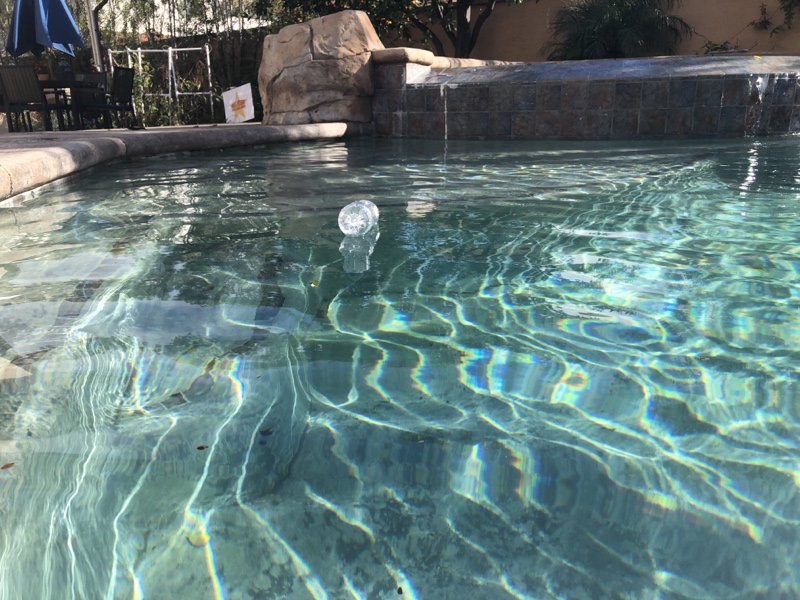Plastic Bottle: (336, 198, 382, 238)
